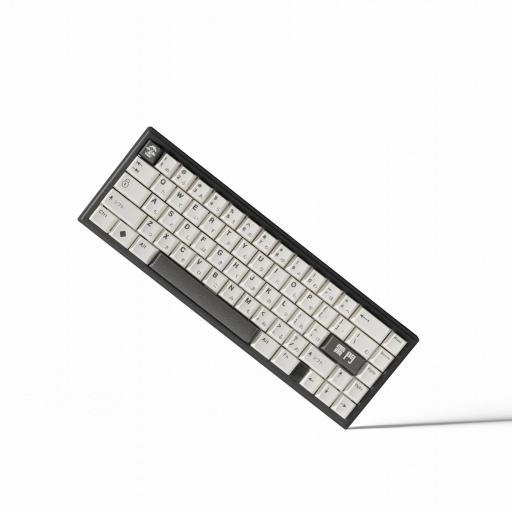keyboard: (81, 121, 423, 449)
